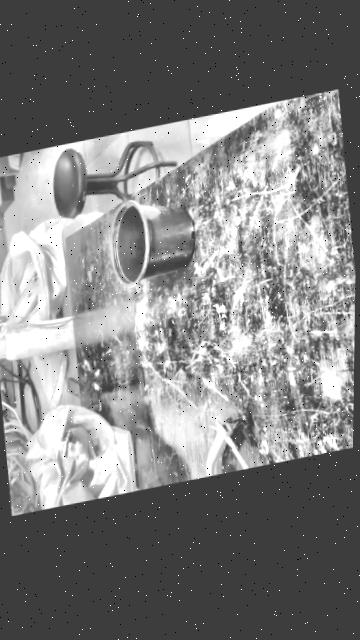pot: (105, 184, 198, 289)
